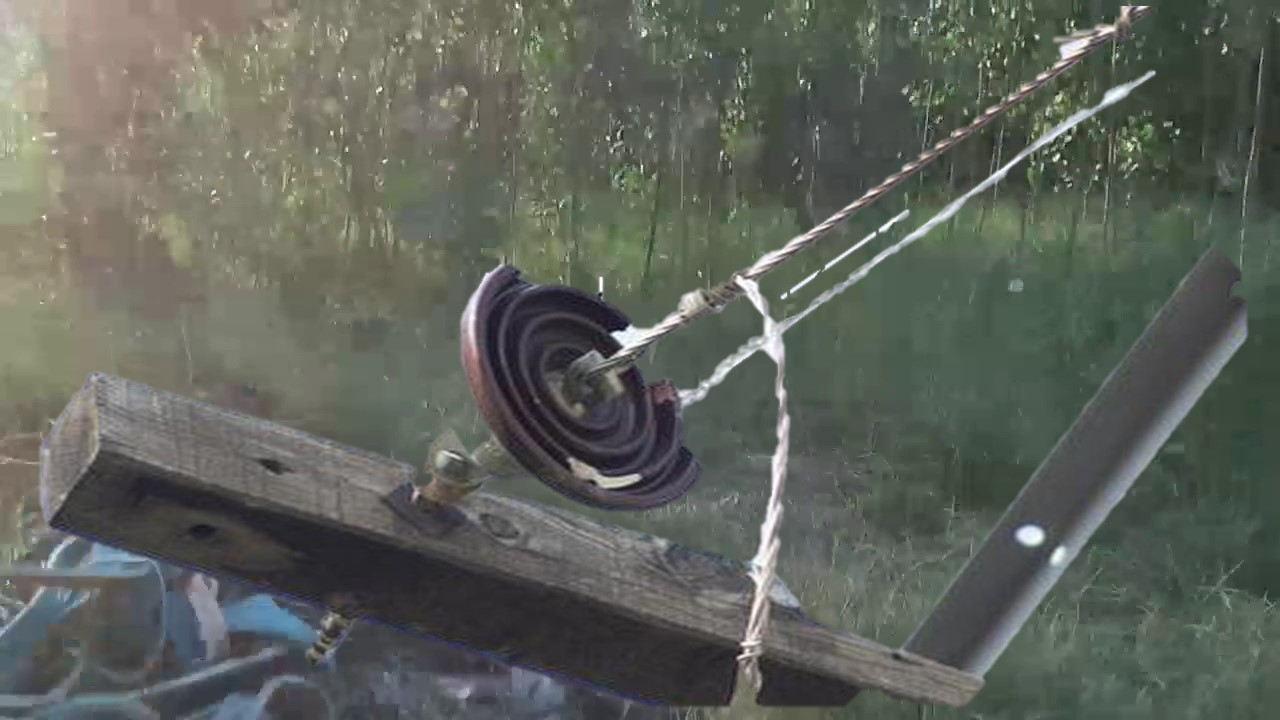defect_disc: (454, 255, 714, 522)
